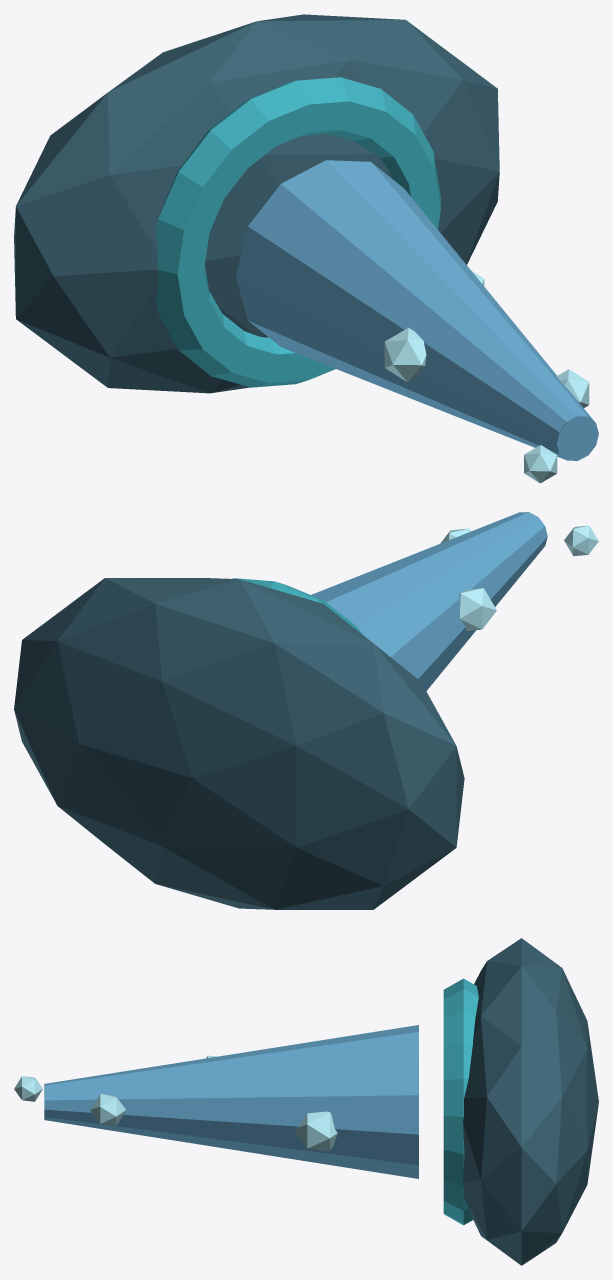
Rendered from 14_geiser_hidrotermal_3d.obj.
3 renders of one model, top to bottom at view 1: azimuth 30°, elevation 25°; view 2: azimuth 150°, elevation 25°; view 3: azimuth 270°, elevation 25°, orthographic. The views are drawn at different scales.
Visible parts, largest first — view 1: Vent_Basalt_Base, Hydrothermal_Water_Jet, Bioluminescent_Vent_Rim, Bubble_2, Bubble_4, Bubble_3; view 2: Vent_Basalt_Base, Hydrothermal_Water_Jet, Bubble_2, Bubble_4, Bioluminescent_Vent_Rim; view 3: Hydrothermal_Water_Jet, Vent_Basalt_Base, Bioluminescent_Vent_Rim, Bubble_1, Bubble_3, Bubble_4.
Part boxes in pixels (bbox=[...]): Vent_Basalt_Base: bbox=[14, 14, 499, 393]; Hydrothermal_Water_Jet: bbox=[236, 160, 598, 460]; Bioluminescent_Vent_Rim: bbox=[156, 77, 440, 387]; Bubble_2: bbox=[384, 327, 426, 382]; Bubble_4: bbox=[524, 445, 557, 483]; Bubble_3: bbox=[557, 369, 589, 407]; Vent_Basalt_Base: bbox=[14, 578, 464, 909]; Hydrothermal_Water_Jet: bbox=[311, 512, 547, 690]; Bubble_2: bbox=[459, 588, 496, 630]; Bubble_4: bbox=[564, 525, 598, 556]; Bioluminescent_Vent_Rim: bbox=[232, 578, 363, 635]; Hydrothermal_Water_Jet: bbox=[44, 1025, 418, 1178]; Vent_Basalt_Base: bbox=[463, 938, 598, 1265]; Bioluminescent_Vent_Rim: bbox=[443, 978, 478, 1225]; Bubble_1: bbox=[295, 1111, 337, 1151]; Bubble_3: bbox=[90, 1093, 125, 1125]; Bubble_4: bbox=[14, 1076, 42, 1101].
Bounding box in the file's own units: 1.71 × 1.24 × 2.42.
7 materials, 7 textured.
